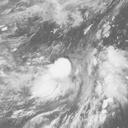cyclone: (31, 57, 85, 103)
